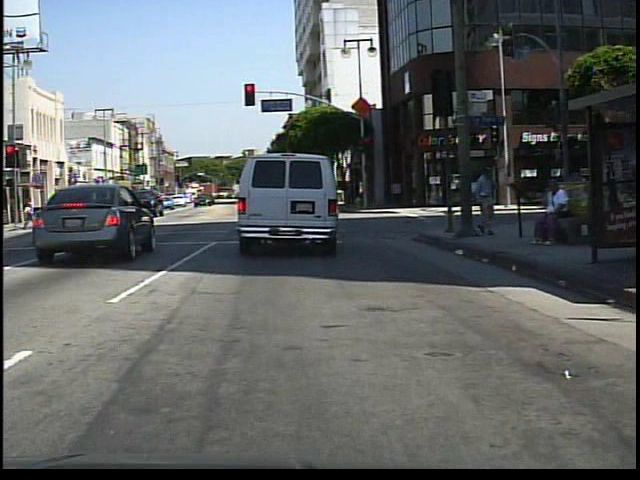person: (529, 176, 576, 247), (472, 162, 502, 240), (31, 195, 32, 233)
